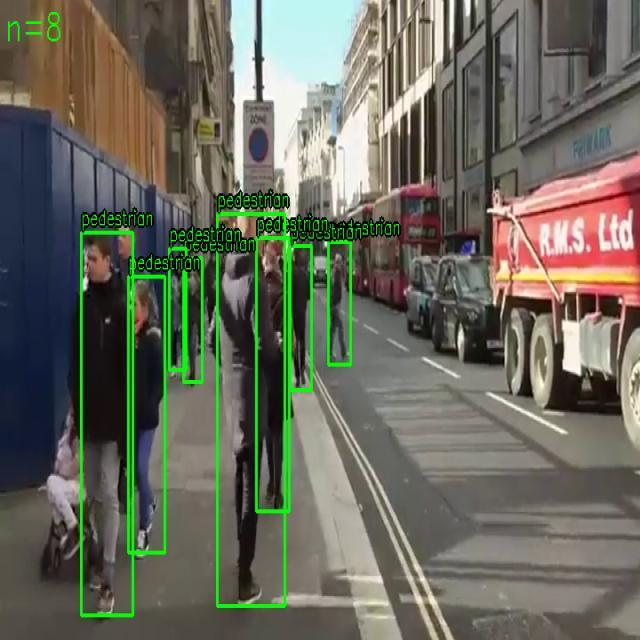person: (217, 213, 286, 607), (80, 232, 134, 616), (128, 276, 166, 554), (256, 237, 290, 512), (290, 245, 312, 391), (328, 242, 351, 366), (183, 257, 203, 383), (169, 248, 187, 371)
